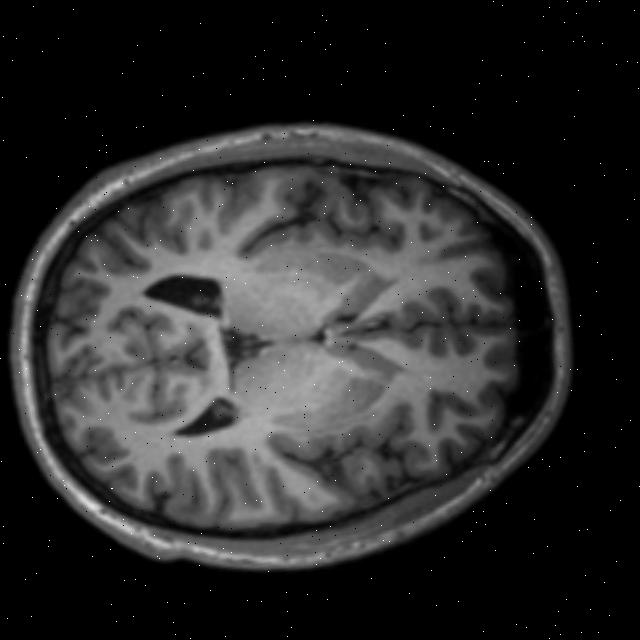NoTumor: (0, 70, 611, 624)
